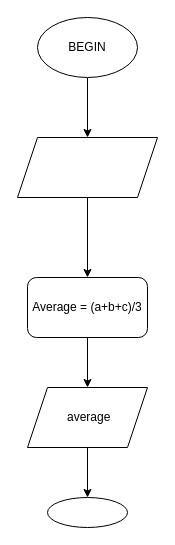
Image size: 175x545. Some labels were removed from this diagram. Each missing label, with the box of its shape:
END: (46, 496, 128, 528)
Input a,b,c average: (16, 136, 158, 198)
